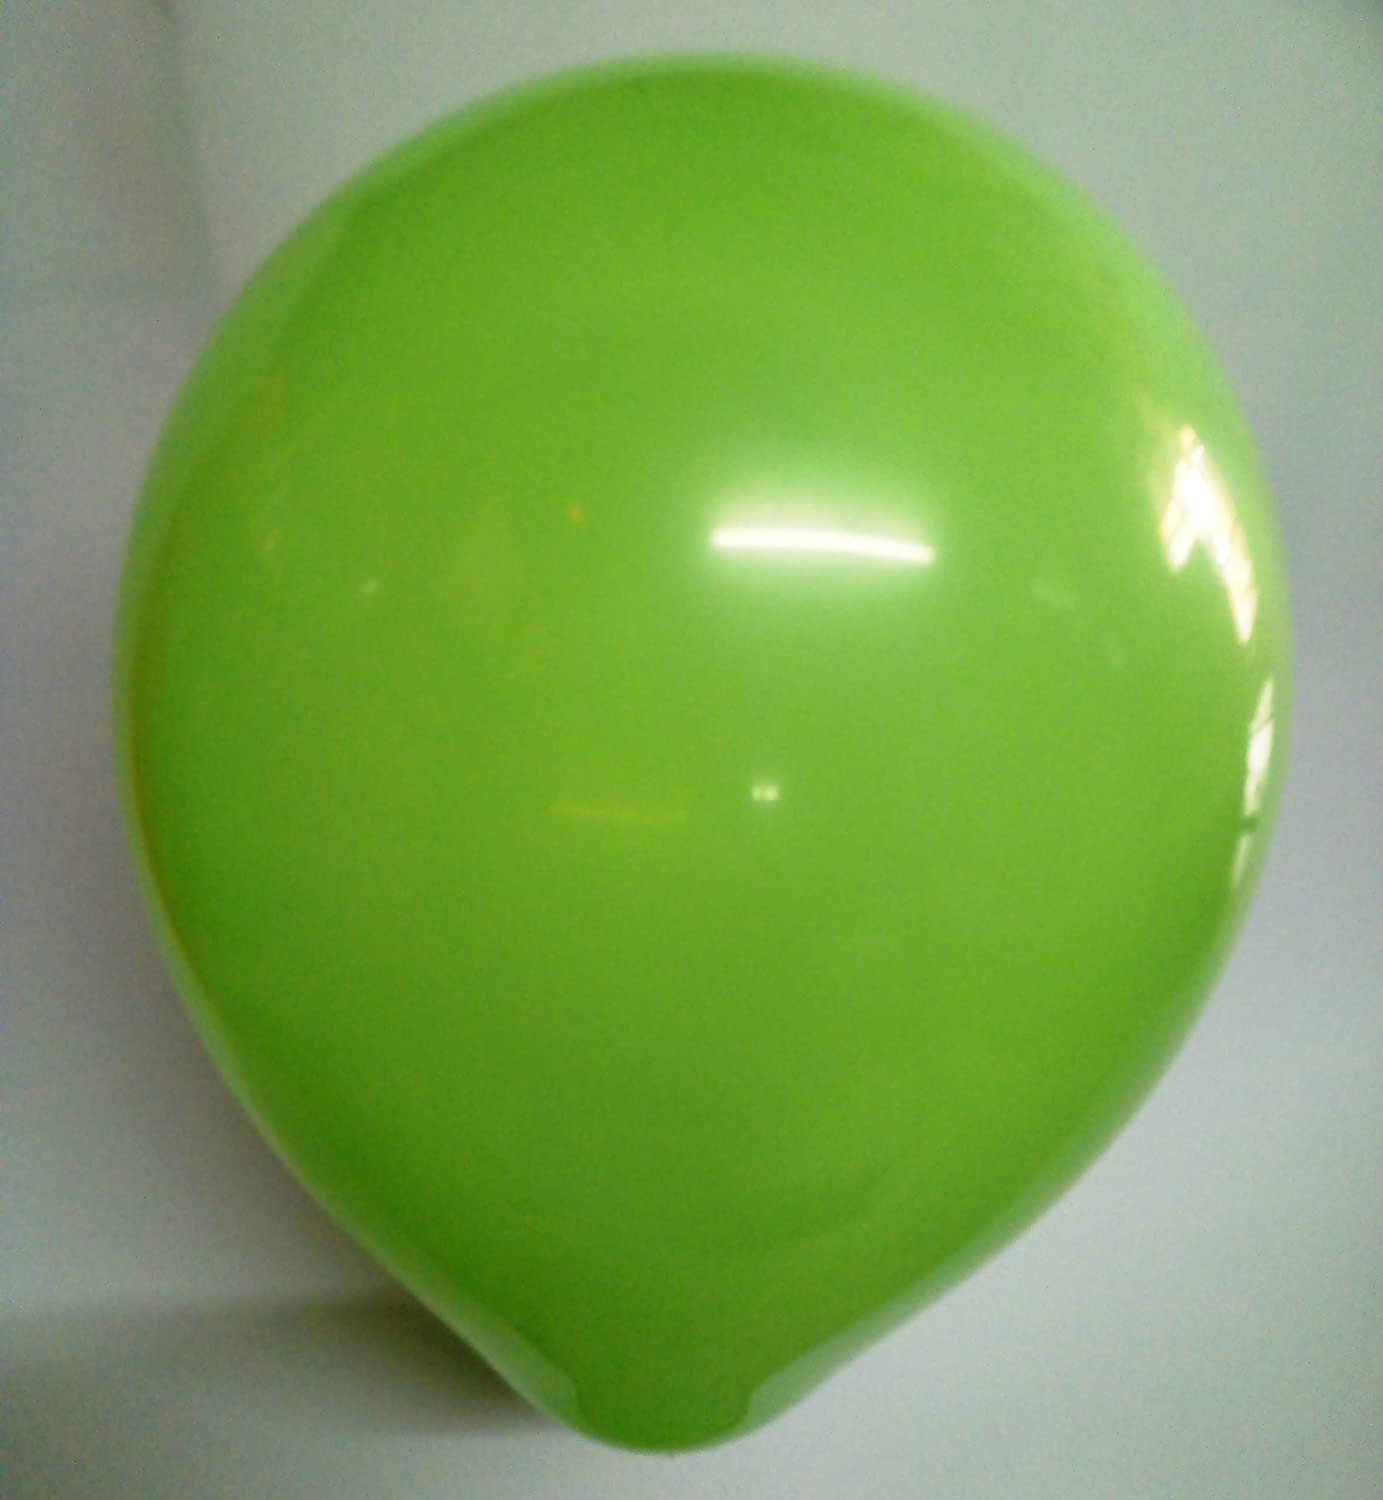Balloon: (114, 61, 1297, 1446)
